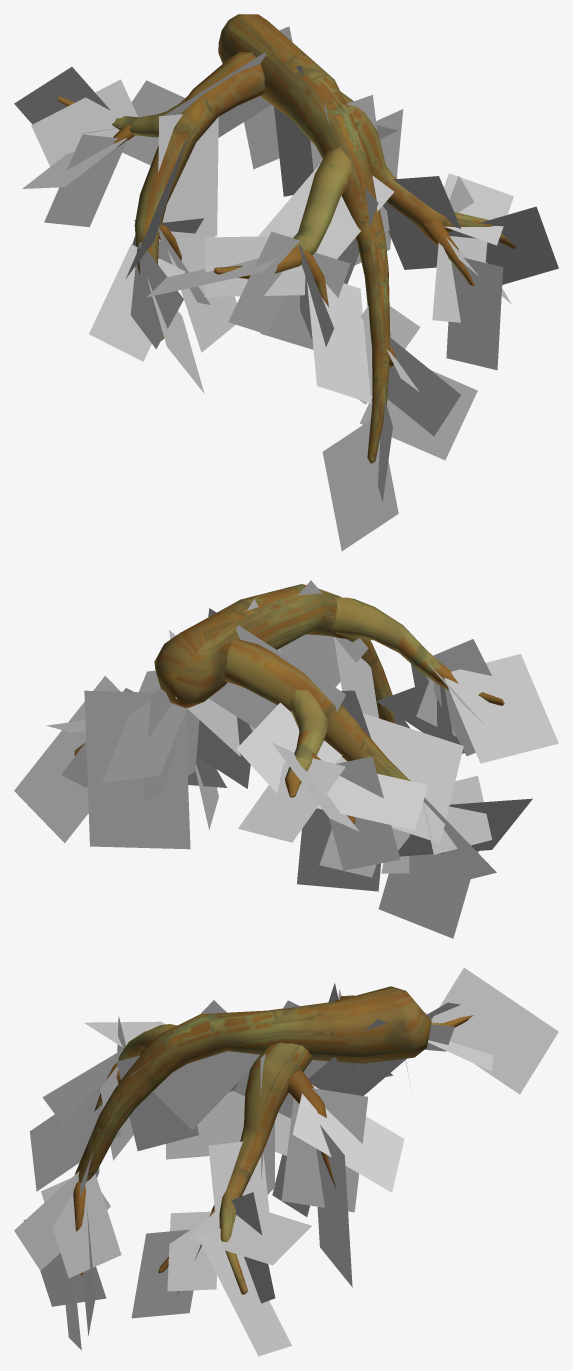
File: env_forest_gianttree_root01_lod0.fbx
3 views of the same model, one above another, from view 1: azimuth 30°, elevation 25°; view 2: azimuth 150°, elevation 25°; view 3: azimuth 270°, elevation 25° (orthographic). The views are drawn at different scales.
Parts seen in each view (by area): view 1: root01_lod0; view 2: root01_lod0; view 3: root01_lod0.
Boxes of the visible parts, box(x1,y1,x2,y2) form: root01_lod0: box(14, 14, 558, 551); root01_lod0: box(14, 580, 558, 938); root01_lod0: box(14, 967, 558, 1356).
Bounding box in the file's own units: 49.2 × 40.24 × 51.94.
